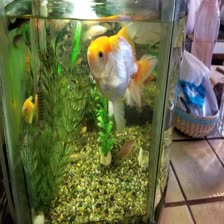Cuezo: (83, 25, 156, 107)
Plano: (18, 92, 39, 124)
